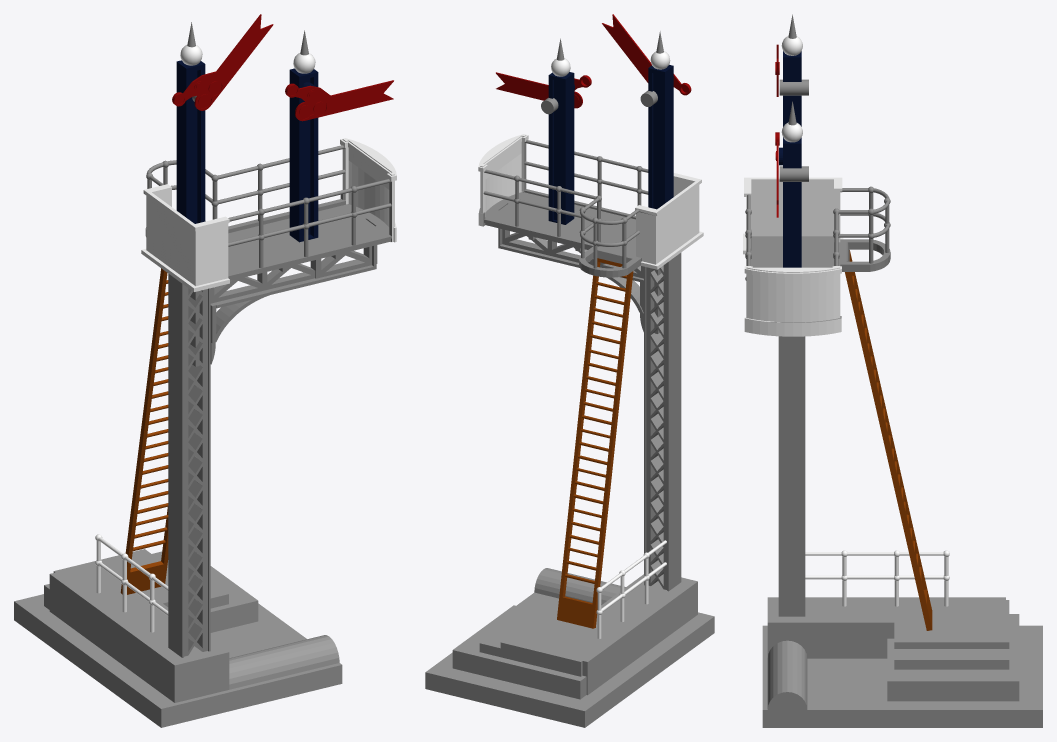
Rendered from Traffic Tower.fbx.
3 views of the same model, side by side, from view 1: azimuth 30°, elevation 25°; view 2: azimuth 150°, elevation 25°; view 3: azimuth 270°, elevation 25° (orthographic). The views are drawn at different scales.
Parts seen in each view (by area): view 1: Traffic Tower; view 2: Traffic Tower; view 3: Traffic Tower.
Boxes of the visible parts, x1,y1,x2,y2 form: Traffic Tower: (14,14,396,727); Traffic Tower: (425,14,714,727); Traffic Tower: (743,14,1042,727).
Bounding box in the file's own units: 3002 × 8156 × 3402.
